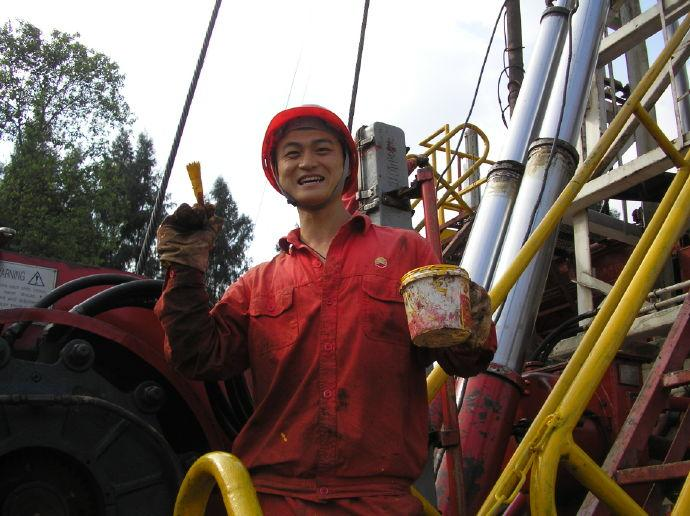helmet: (324, 100, 370, 199), (259, 103, 346, 140)
